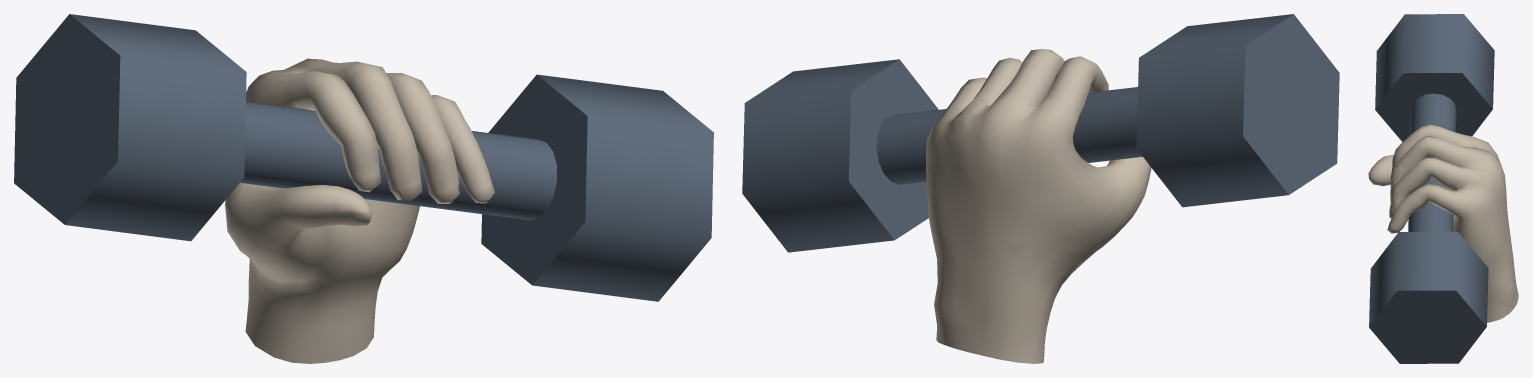
Rendered from left-hand-with-dumbbell.glb.
The picture shows the model from 3 angles, left to right: view 1: azimuth 30°, elevation 25°; view 2: azimuth 150°, elevation 25°; view 3: azimuth 270°, elevation 25°; orthographic projection. The views are drawn at different scales.
Parts seen in each view (by area): view 1: left_hand_fixed, plate_minus, plate_plus, shaft; view 2: left_hand_fixed, plate_minus, plate_plus, shaft; view 3: plate_plus, left_hand_fixed, plate_minus, shaft.
Part boxes in pixels (left/top/right/bottom): left_hand_fixed: left=225, top=58, right=494, bottom=363; plate_minus: left=14, top=14, right=246, bottom=241; plate_plus: left=481, top=74, right=713, bottom=301; shaft: left=240, top=101, right=556, bottom=220; left_hand_fixed: left=926, top=49, right=1151, bottom=363; plate_minus: left=1136, top=14, right=1339, bottom=207; plate_plus: left=742, top=59, right=938, bottom=252; shaft: left=876, top=87, right=1142, bottom=184; plate_plus: left=1369, top=231, right=1488, bottom=363; left_hand_fixed: left=1368, top=124, right=1518, bottom=322; plate_minus: left=1375, top=14, right=1494, bottom=141; shaft: left=1408, top=93, right=1456, bottom=231.
Size of the model in its own units: 0.2913 by 0.1798 by 0.1069.
